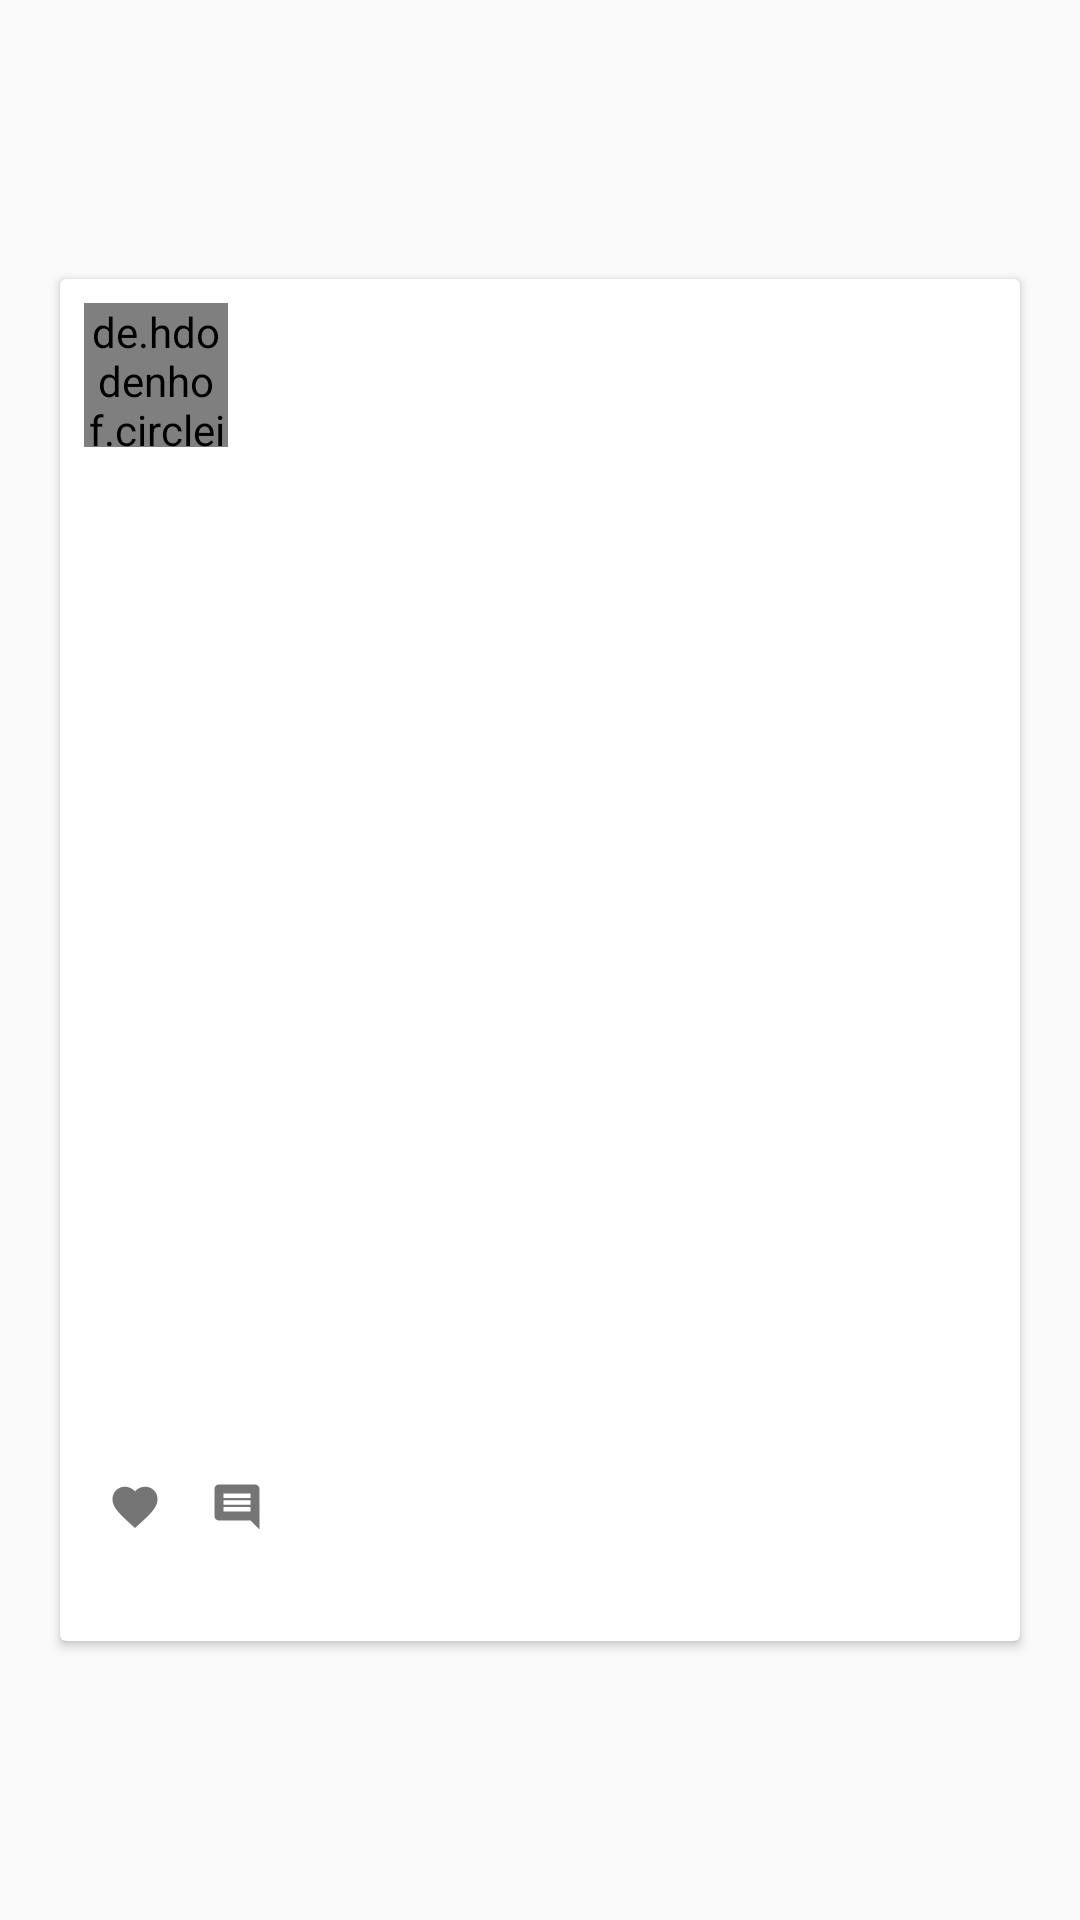

Icon click points for this 1080 × 1920 phone screenshot, format point (x, y):
comment: point (237, 1506)
favorite: point (135, 1507)
